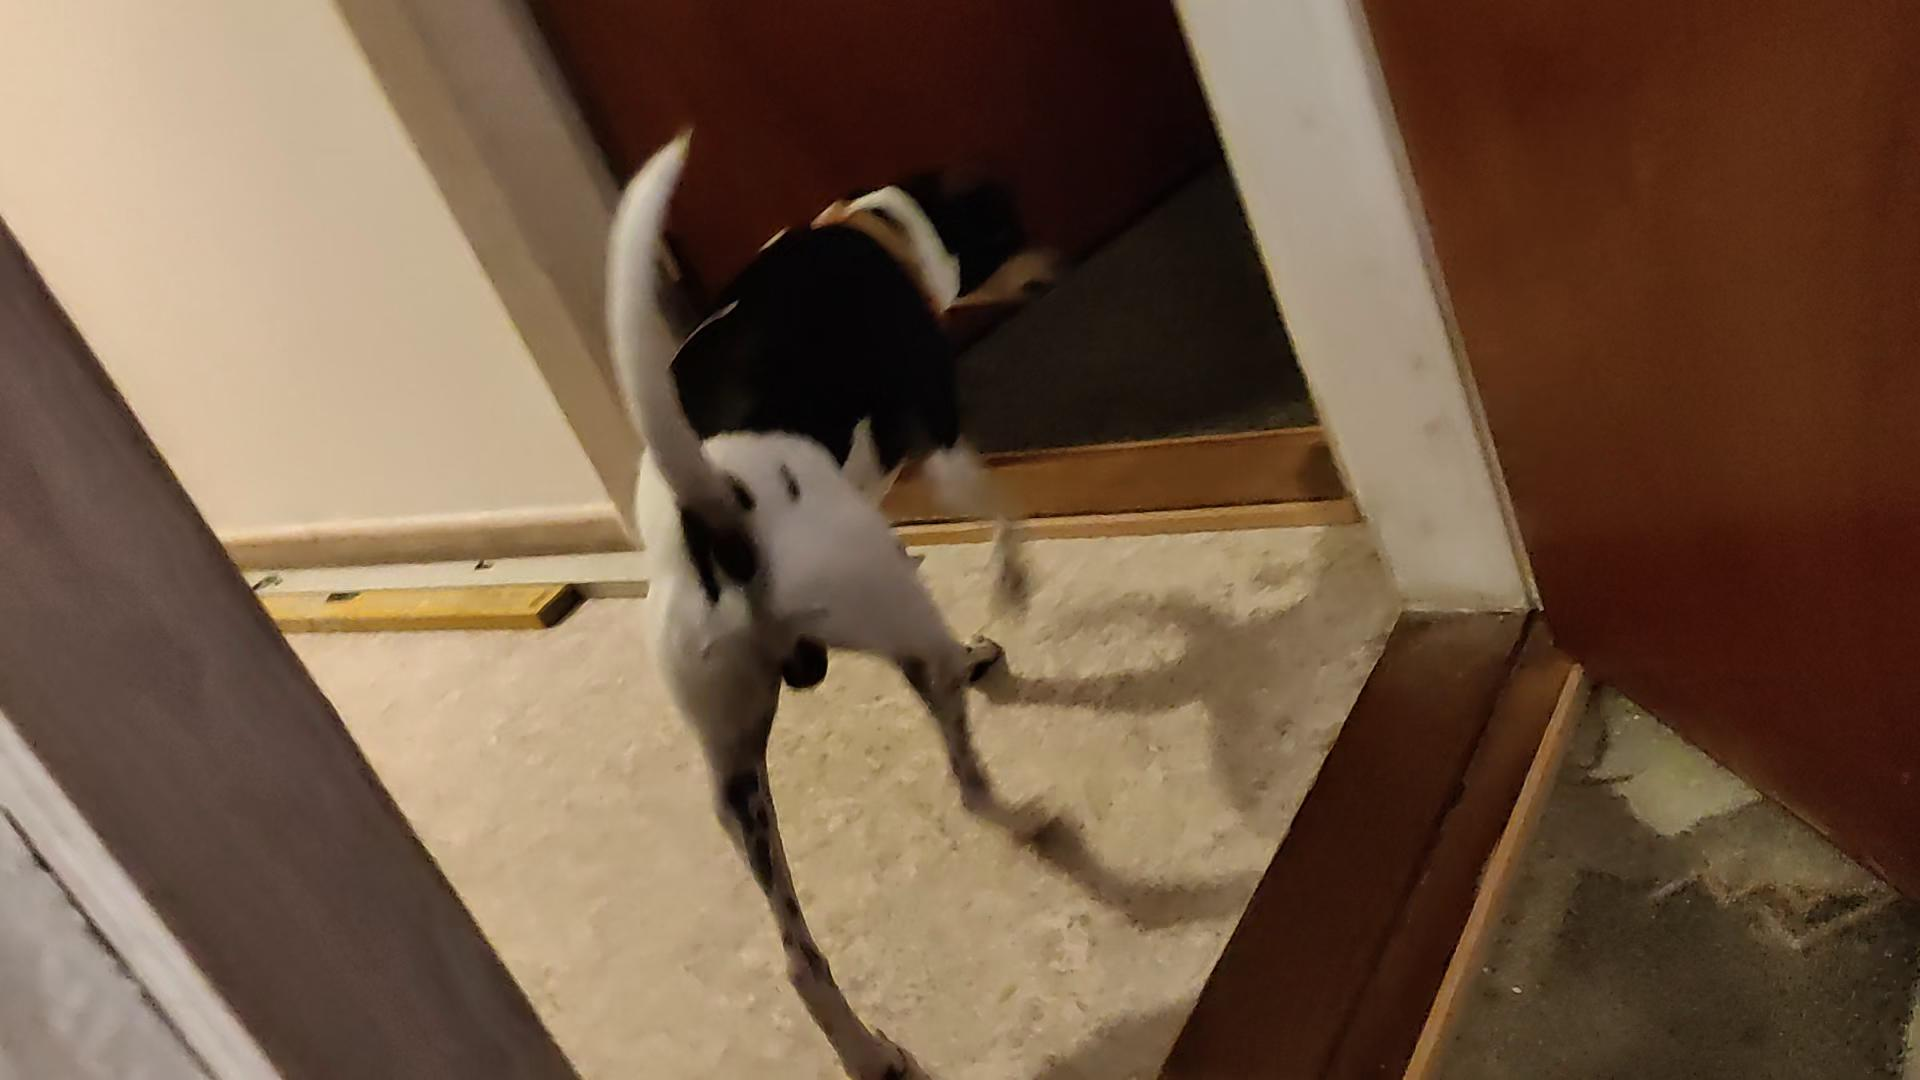Dog: (589, 117, 1069, 1079)
